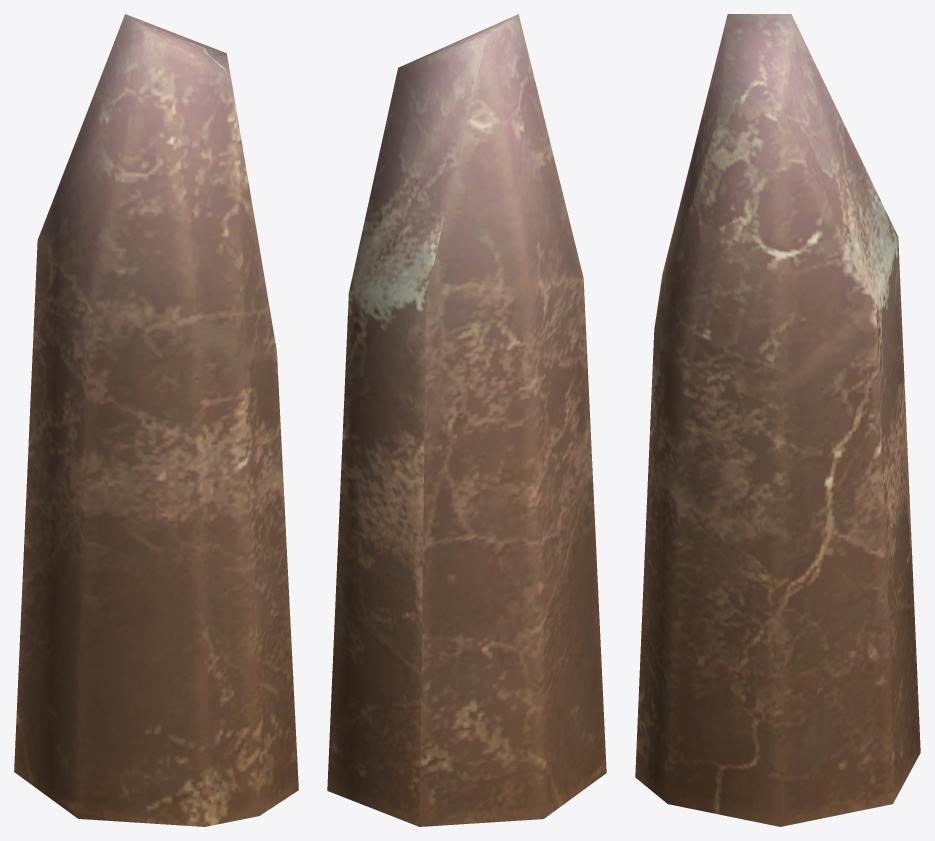
Rendered from crystal_small02_var4.obj.
3 views of the same model, side by side, from view 1: azimuth 30°, elevation 25°; view 2: azimuth 150°, elevation 25°; view 3: azimuth 270°, elevation 25° (orthographic). The views are drawn at different scales.
Parts seen in each view (by area): view 1: crystal_small02_var4; view 2: crystal_small02_var4; view 3: crystal_small02_var4.
Part boxes in pixels (<box>): crystal_small02_var4: <box>14,14,298,826</box>; crystal_small02_var4: <box>327,14,606,826</box>; crystal_small02_var4: <box>635,14,920,826</box>.
Size of the model in its own units: 20.27 by 60.28 by 21.14.
1 material, 1 textured.
